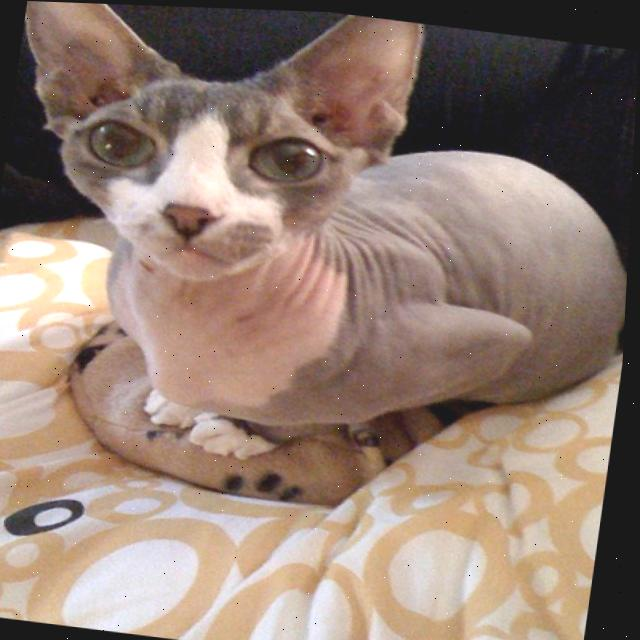Sphynx: (0, 0, 640, 503)
